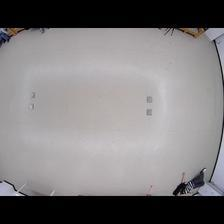fall: (171, 167, 208, 196)
